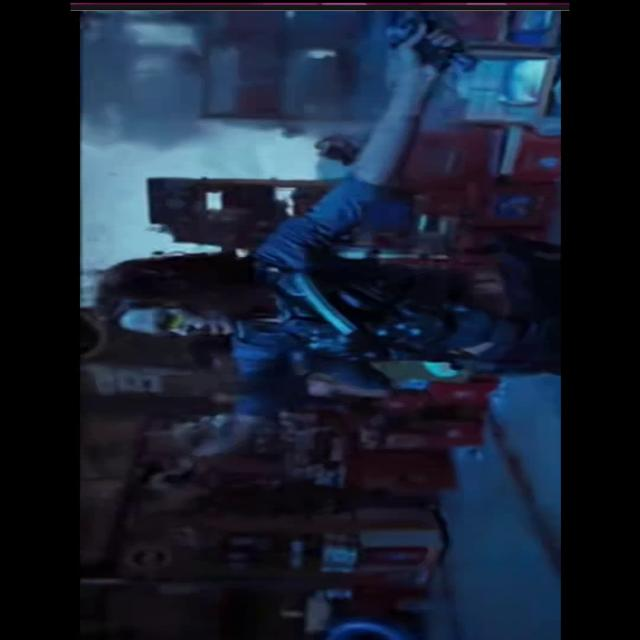weapons: (378, 7, 498, 92)
